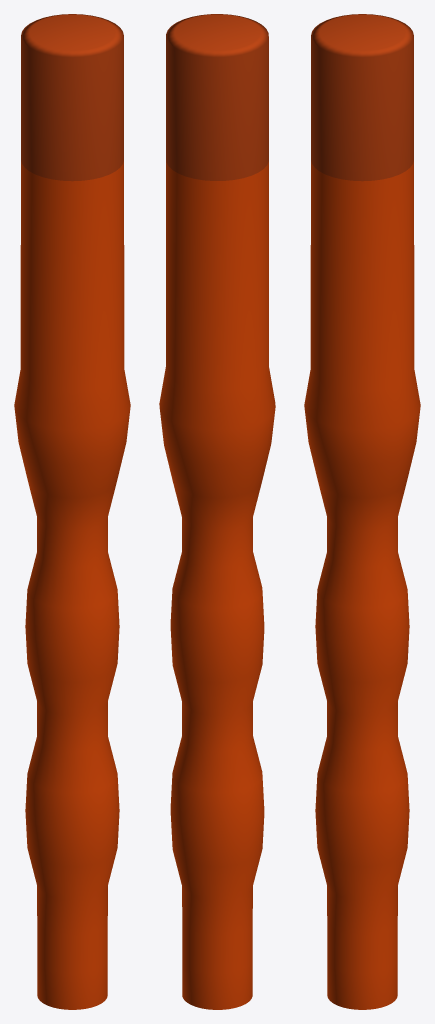
File: Flare.fbx
3 views of the same model, side by side, from view 1: azimuth 90°, elevation 25°; view 2: azimuth 210°, elevation 25°; view 3: azimuth 270°, elevation 25° (orthographic).
Parts seen in each view (by area): view 1: Cylinder; view 2: Cylinder; view 3: Cylinder.
Boxes of the visible parts, <box> form: Cylinder: <box>14,14,130,1009</box>; Cylinder: <box>159,14,275,1009</box>; Cylinder: <box>304,14,420,1009</box>.
Size of the model in its own units: 2.64 by 24.19 by 2.64.
